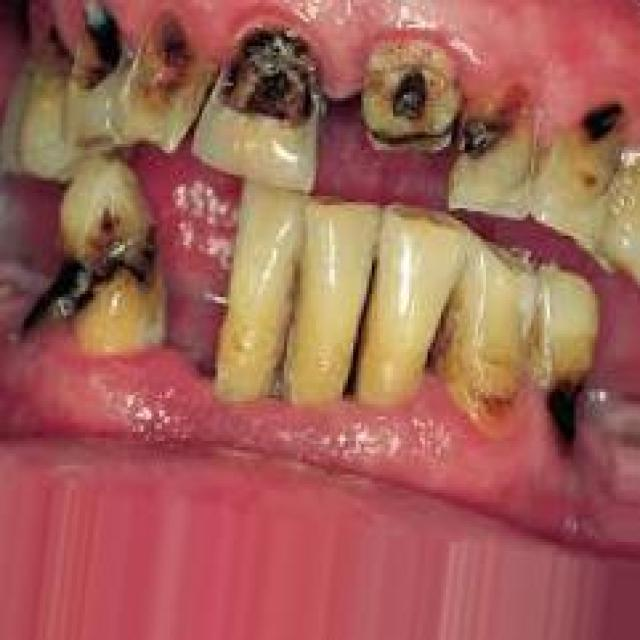caries: (54, 162, 168, 353), (214, 23, 329, 137), (124, 5, 212, 151), (354, 36, 461, 155), (451, 75, 532, 176), (536, 357, 607, 464), (66, 0, 135, 105), (565, 79, 640, 168), (16, 13, 73, 105)
